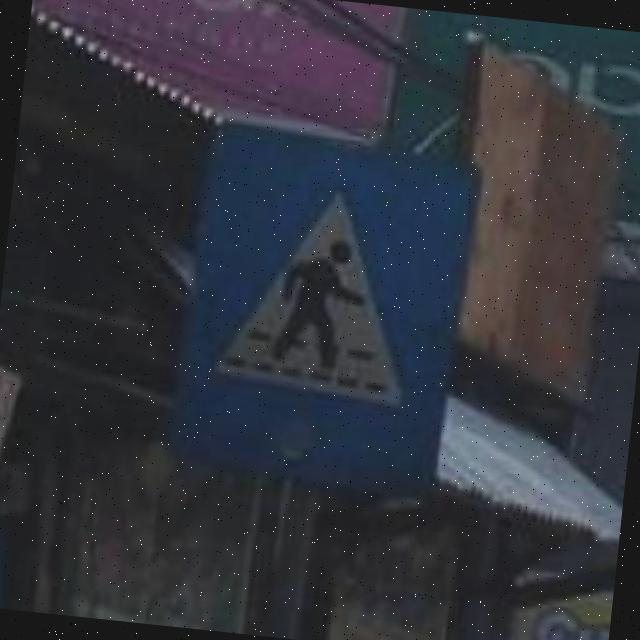Przejscie dla pieszych: (177, 119, 468, 486)
